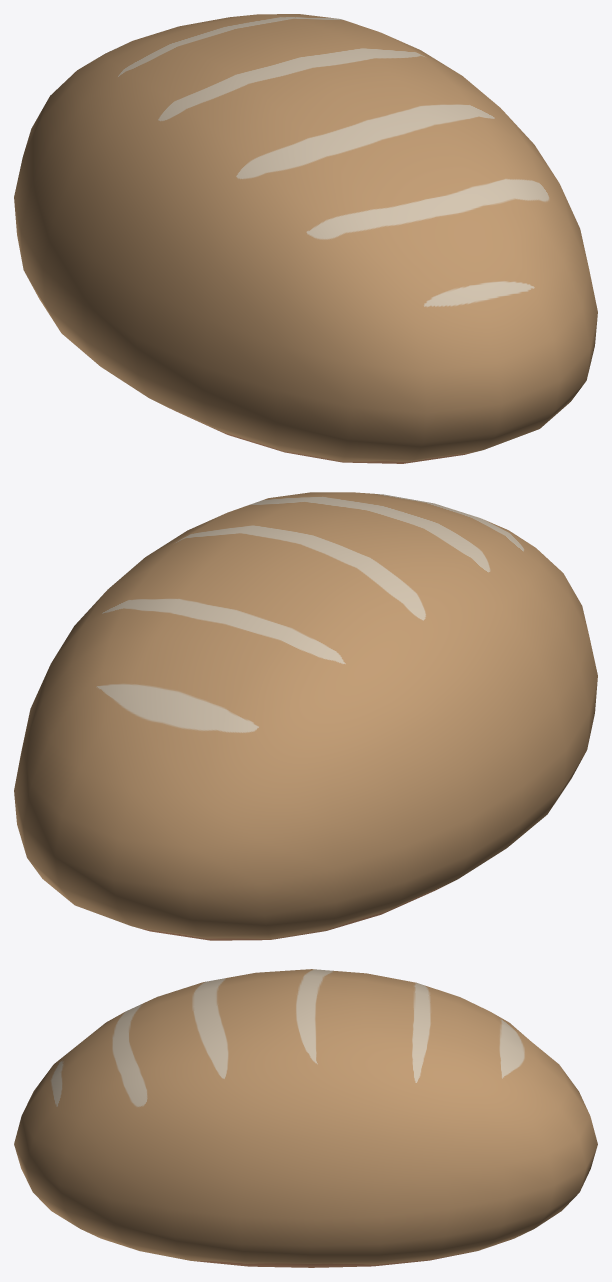
Rendered from bread.fbx.
The picture shows the model from 3 angles, top to bottom: view 1: azimuth 30°, elevation 25°; view 2: azimuth 150°, elevation 25°; view 3: azimuth 270°, elevation 25°; orthographic projection. The views are drawn at different scales.
Parts seen in each view (by area): view 1: bread; view 2: bread; view 3: bread.
Part boxes in pixels (x1,y1,x2,y2): bread: [14, 14, 597, 463]; bread: [14, 492, 597, 940]; bread: [14, 969, 597, 1267].
Bounding box in the file's own units: 186 × 124 × 285.
1 material, 1 textured.
